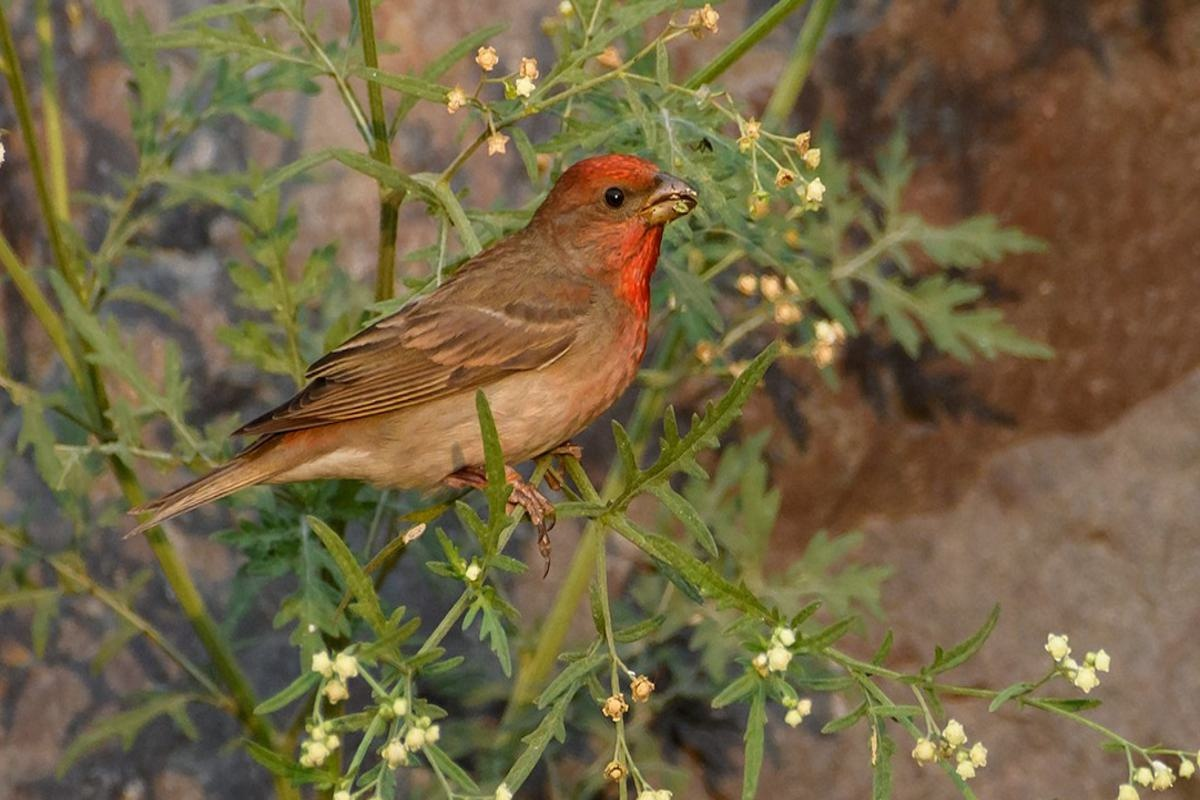rosefinch: (279, 163, 697, 496)
